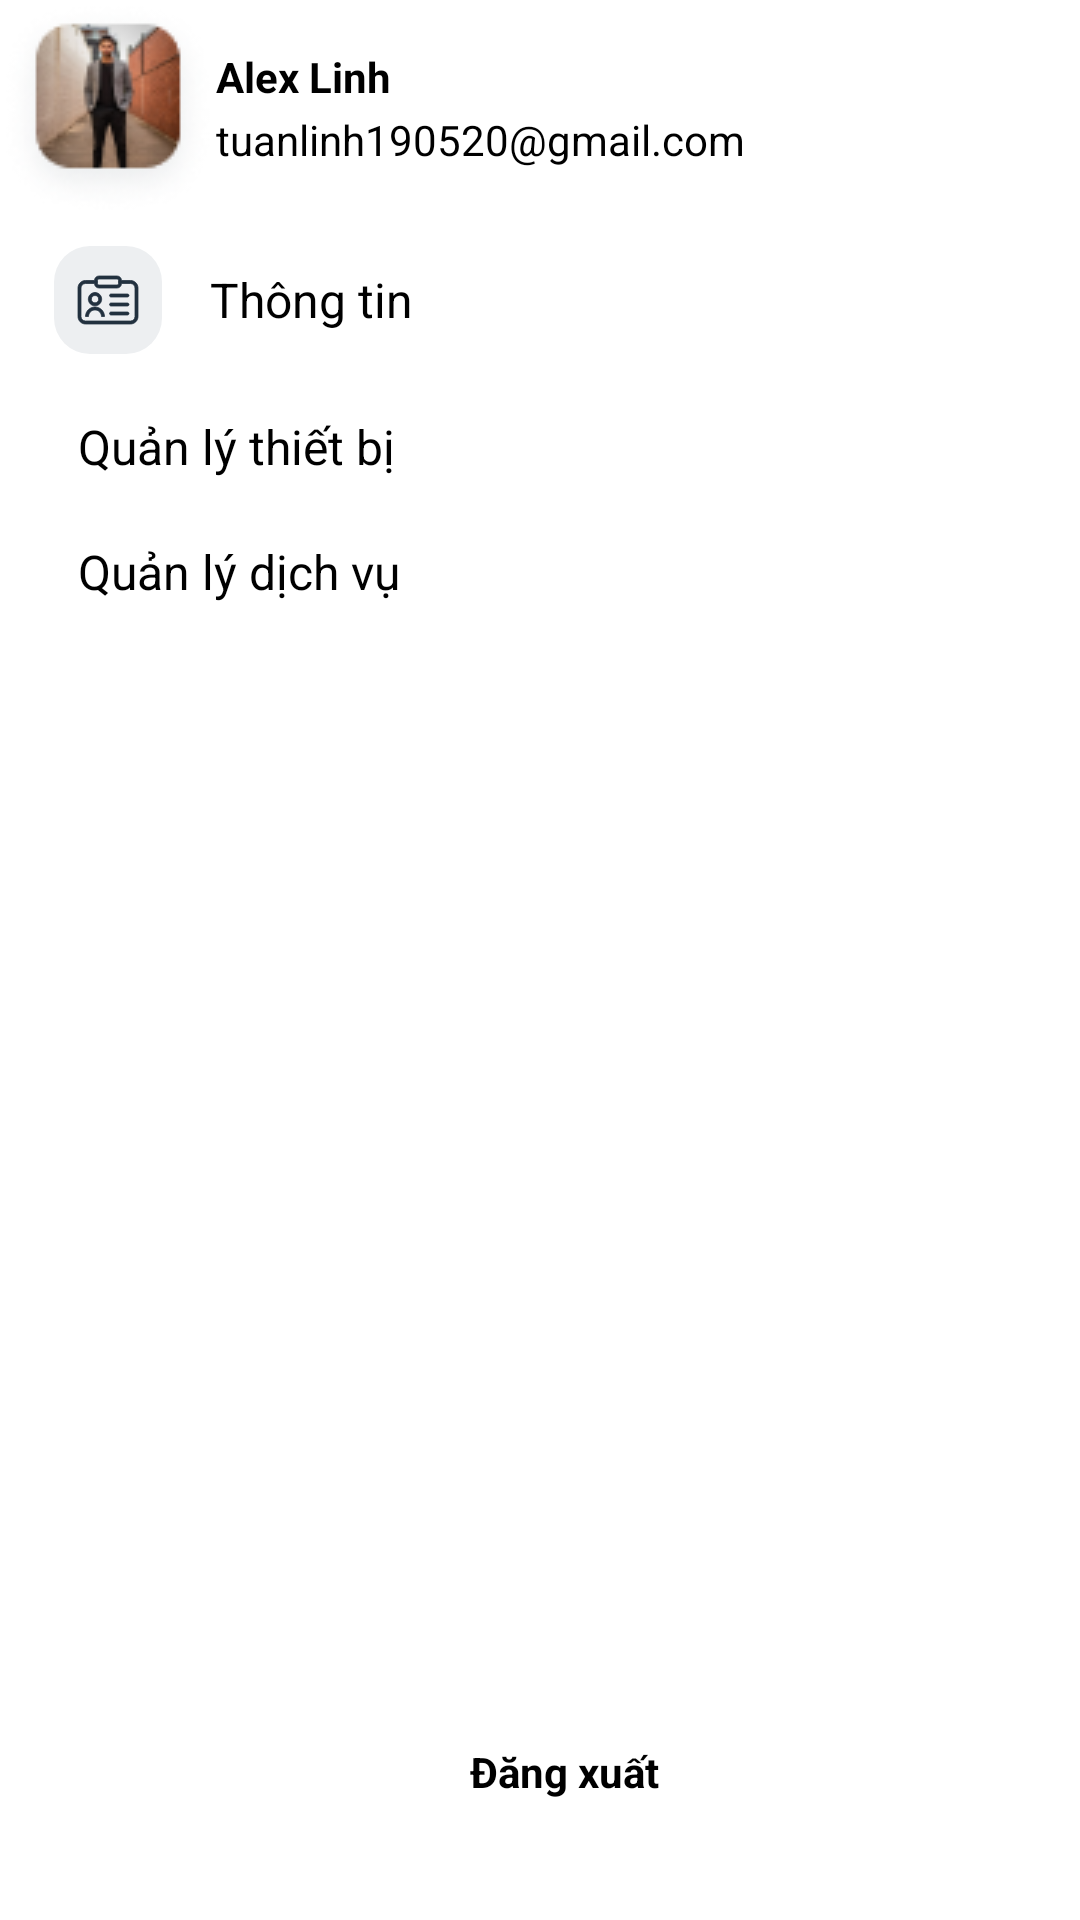

Screen size 1080px×1920px. Icon name, then its box in pixels as (x1, y1, x2, y2):
avata: (35, 23, 181, 169)
